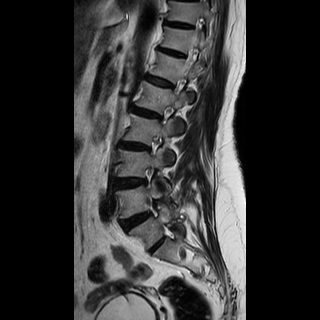RFS0: (136, 160, 160, 191), (143, 128, 166, 159), (155, 100, 177, 129)
